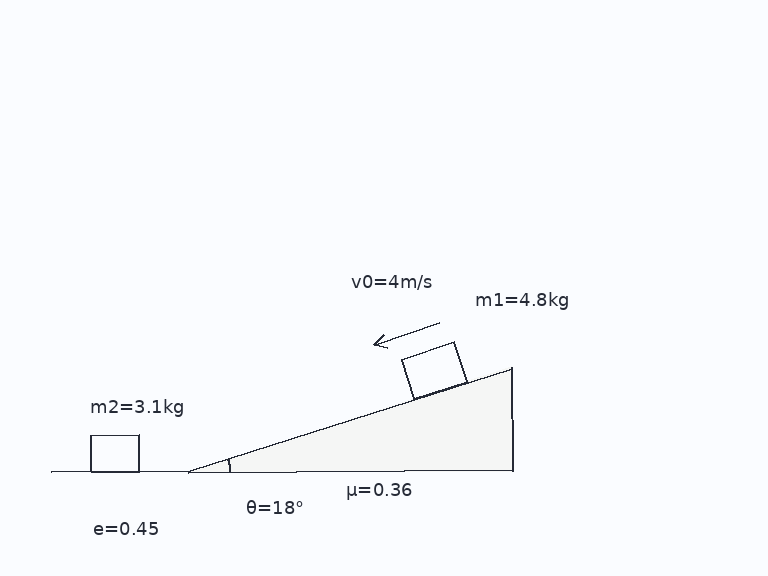block: (399, 340, 468, 400), (89, 433, 141, 473)
ramp: (188, 365, 513, 473)
